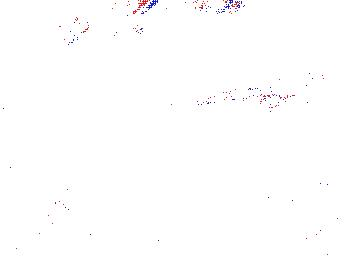X-ray fish: (56, 5, 85, 47)
glassfish: (178, 87, 291, 118)
red belly glassfish: (306, 65, 326, 85)
redtail glassfish: (80, 2, 138, 34), (89, 22, 148, 50), (130, 1, 211, 19), (201, 1, 244, 20)
